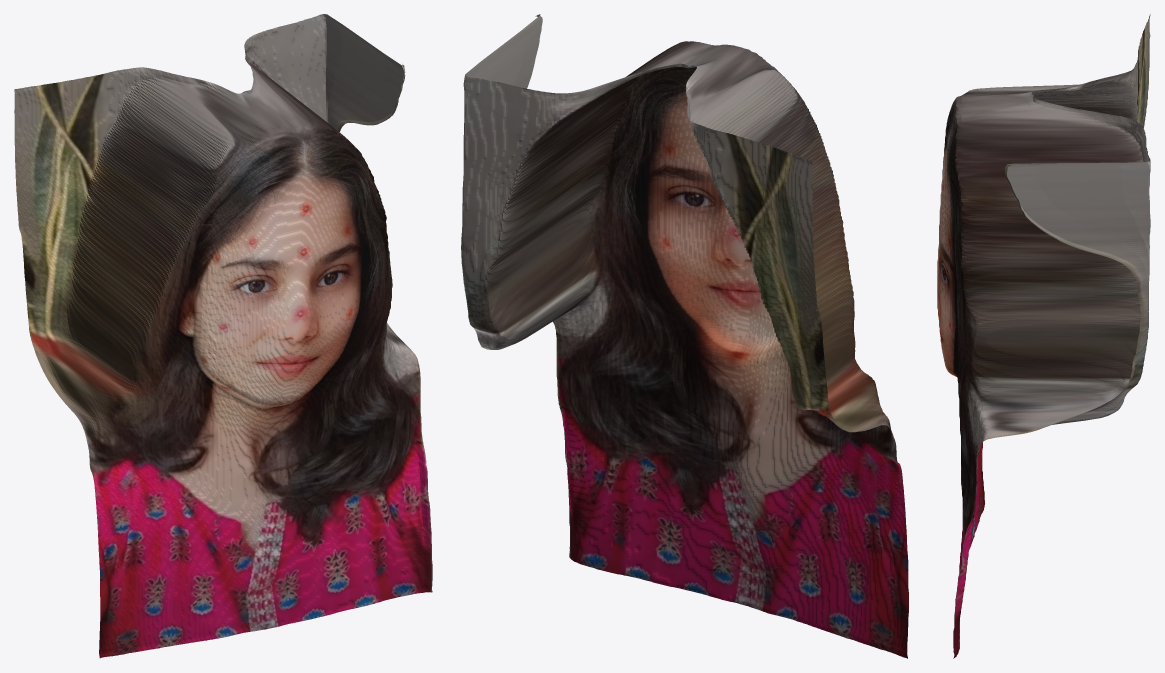
The model's file is holo_depth_3917966038.glb.
3 views of the same model, side by side, from view 1: azimuth 30°, elevation 25°; view 2: azimuth 150°, elevation 25°; view 3: azimuth 270°, elevation 25° (orthographic). The views are drawn at different scales.
Visible parts, largest first — view 1: world; view 2: world; view 3: world.
Boxes of the visible parts, box(x1,y1,x2,y2) form: world: box(14, 14, 432, 658); world: box(461, 14, 908, 658); world: box(937, 14, 1150, 658).
Bounding box in the file's own units: 0.6536 × 0.9991 × 0.3902.
Materials: 1 (1 with a texture image).
